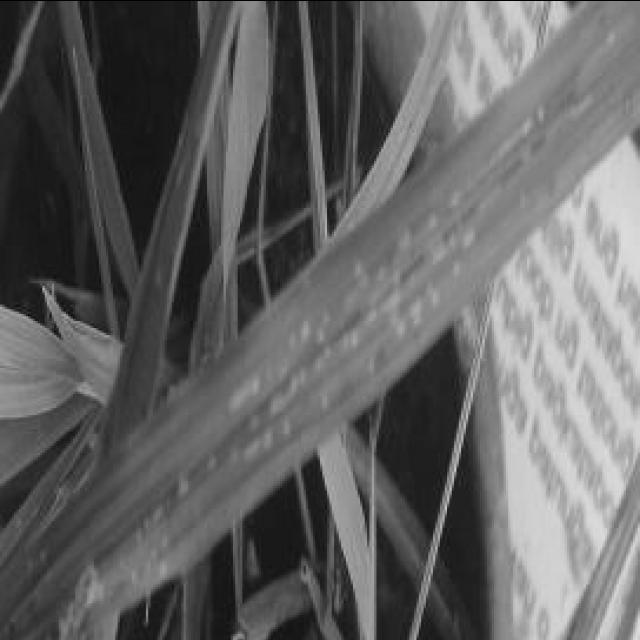Leaf_Blast: (414, 35, 590, 212)
